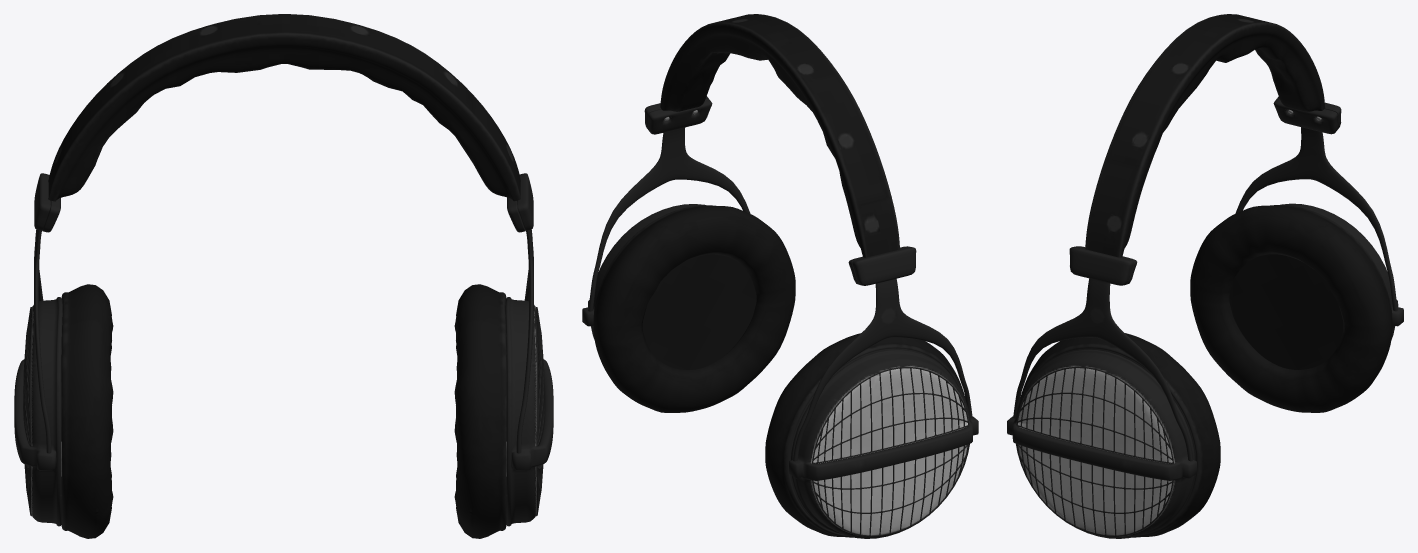
The model's file is fox.glb.
3 renders of one model, left to right at view 1: azimuth 30°, elevation 25°; view 2: azimuth 150°, elevation 25°; view 3: azimuth 270°, elevation 25°, orthographic. The views are drawn at different scales.
Parts seen in each view (by area): view 1: HeadBand, Cushions, Headphones.Body, Adjustable.2, Wireframe.Detail, Adjustable.1; view 2: Headphones.Body, Cushions, HeadBand, Adjustable.2, Wireframe.Detail, Adjustable.1; view 3: Headphones.Body, Cushions, HeadBand, Adjustable.2, Wireframe.Detail, Adjustable.1.
Boxes of the visible parts, x1,y1,x2,y2 form: HeadBand: (48, 14, 520, 201); Cushions: (61, 284, 506, 538); Headphones.Body: (14, 297, 553, 526); Adjustable.2: (34, 229, 533, 453); Wireframe.Detail: (23, 307, 544, 516); Adjustable.1: (34, 173, 533, 232); Headphones.Body: (582, 204, 978, 538); Cushions: (593, 205, 965, 537); HeadBand: (660, 14, 899, 257); Adjustable.2: (588, 127, 972, 461); Wireframe.Detail: (812, 367, 969, 536); Adjustable.1: (644, 96, 916, 285); Headphones.Body: (1007, 203, 1403, 538); Cushions: (1020, 205, 1392, 537); HeadBand: (1085, 14, 1325, 257); Adjustable.2: (1013, 127, 1397, 461); Wireframe.Detail: (1016, 366, 1173, 536); Adjustable.1: (1069, 96, 1341, 285).
Bounding box in the file's own units: 0.9447 × 0.9382 × 0.7714.
Materials: 1 (1 with a texture image).
